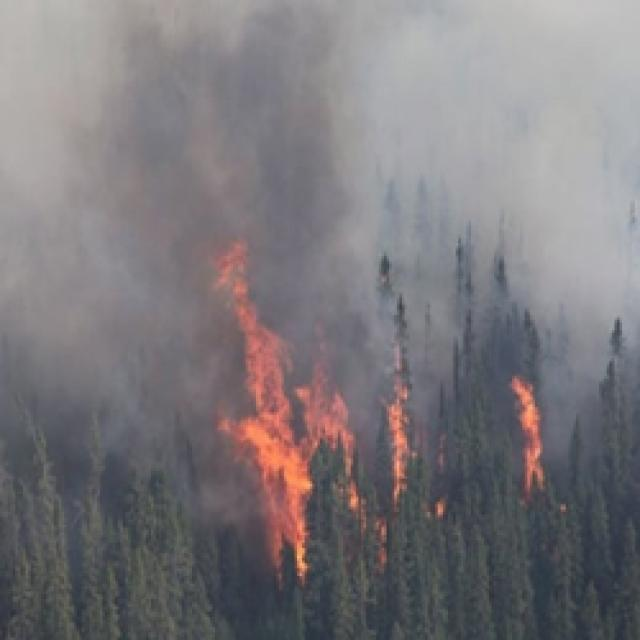Fire: (215, 236, 368, 580), (382, 348, 416, 507), (514, 378, 550, 494), (373, 521, 395, 573), (424, 504, 450, 524)
Smoke: (0, 0, 212, 545), (212, 0, 640, 233), (366, 236, 640, 346), (542, 350, 640, 456), (418, 344, 466, 428)
